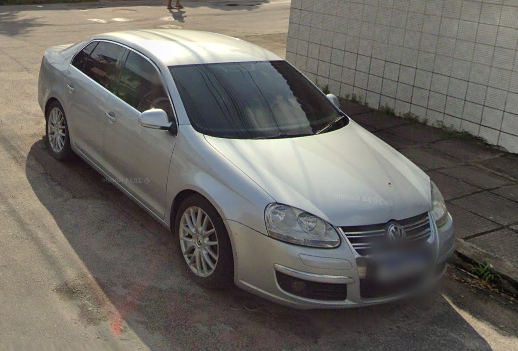car: (37, 26, 457, 312)
